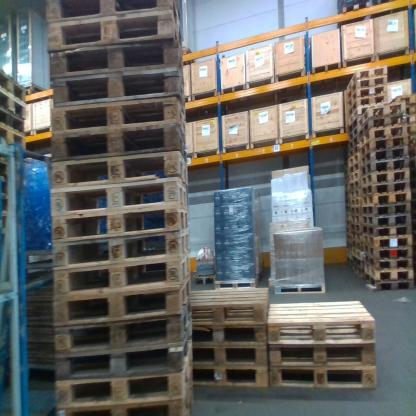pallet: (339, 1, 414, 138), (58, 326, 192, 388), (57, 348, 194, 408), (56, 304, 191, 359), (53, 277, 190, 326), (53, 38, 187, 84), (56, 254, 188, 296), (51, 99, 188, 138), (50, 125, 190, 163), (264, 297, 376, 344), (52, 71, 186, 110), (56, 208, 188, 243), (54, 231, 189, 265), (52, 152, 190, 185), (51, 20, 187, 53), (48, 0, 182, 26), (56, 390, 198, 413), (190, 285, 269, 326), (52, 185, 190, 208), (268, 341, 377, 367), (268, 366, 380, 391), (193, 341, 265, 366), (190, 322, 264, 344), (194, 366, 268, 387), (360, 125, 406, 151), (360, 101, 404, 128), (347, 76, 386, 105), (361, 136, 407, 160), (360, 114, 406, 137), (347, 67, 386, 93), (366, 271, 414, 292), (360, 147, 407, 168), (348, 86, 383, 113), (349, 96, 386, 121), (0, 69, 26, 103), (361, 159, 408, 177), (360, 171, 409, 187), (364, 254, 412, 270), (362, 202, 413, 217), (363, 234, 412, 249), (361, 193, 410, 208), (364, 265, 412, 280), (1, 125, 25, 155), (362, 223, 412, 237), (362, 182, 408, 197), (1, 87, 24, 117), (364, 245, 412, 259), (361, 214, 408, 228), (1, 110, 25, 133), (275, 284, 324, 295), (19, 86, 51, 95), (392, 94, 413, 107), (348, 108, 360, 129), (393, 102, 414, 114), (349, 118, 360, 136), (402, 114, 415, 128), (348, 135, 359, 151), (349, 129, 359, 144), (348, 146, 360, 158), (348, 162, 359, 175), (195, 269, 209, 279), (352, 247, 364, 258), (351, 265, 362, 277), (349, 154, 359, 166), (351, 230, 361, 242), (350, 180, 360, 190), (351, 189, 361, 199), (350, 216, 361, 225), (350, 208, 360, 217), (351, 223, 361, 232), (352, 257, 362, 266), (351, 173, 360, 182), (350, 200, 360, 208), (352, 242, 361, 249)
stillage: (15, 260, 54, 413), (17, 142, 57, 266), (1, 290, 18, 413)
